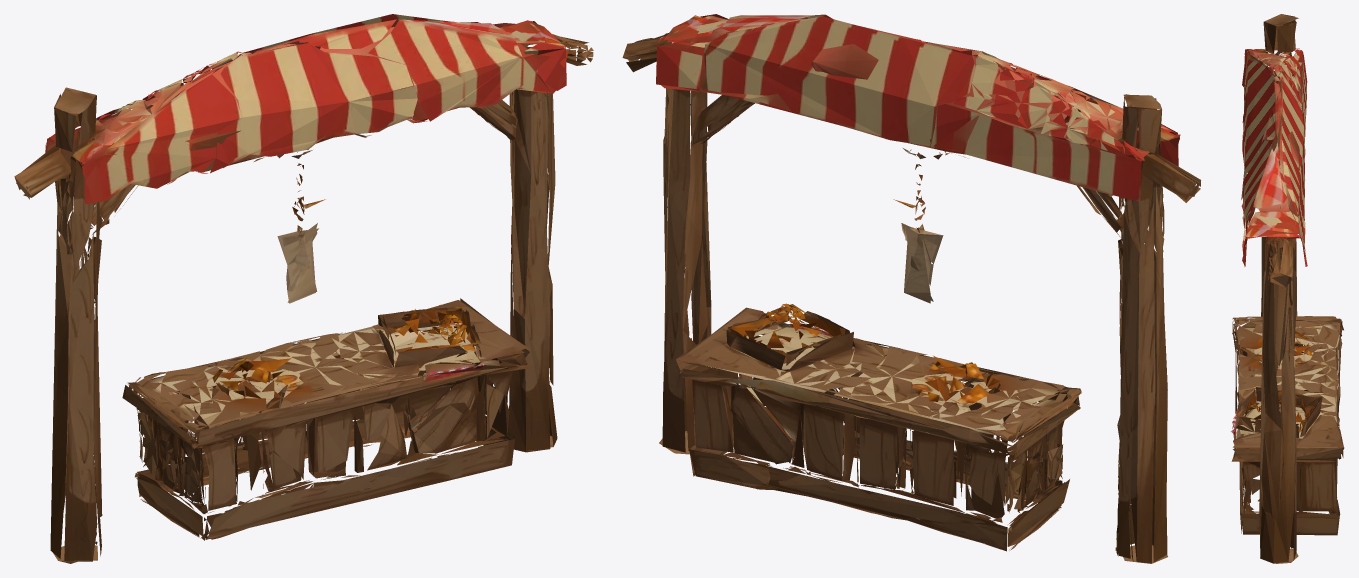
The model's file is market-stall.glb.
The picture shows the model from 3 angles, left to right: view 1: azimuth 30°, elevation 25°; view 2: azimuth 150°, elevation 25°; view 3: azimuth 270°, elevation 25°; orthographic projection. The views are drawn at different scales.
Parts seen in each view (by area): view 1: material; view 2: material; view 3: material.
Part boxes in pixels (<box>): material: <box>14,14,593,563</box>; material: <box>622,14,1200,563</box>; material: <box>1230,14,1344,563</box>.
Size of the model in its own units: 1.19 by 0.9196 by 0.2592.
Materials: 1 (1 with a texture image).
